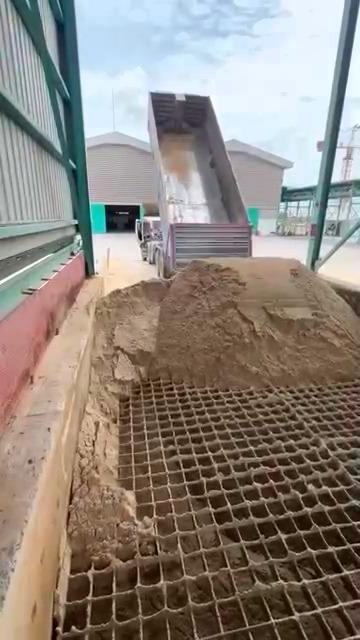sand: (69, 258, 360, 565)
